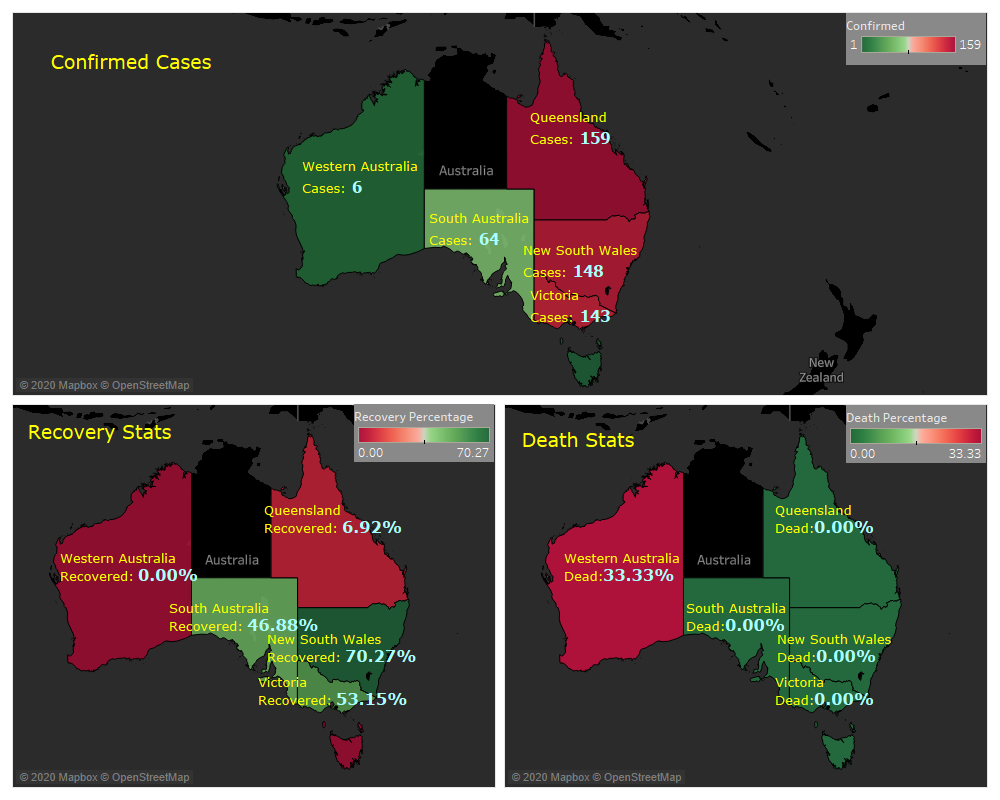

The page's visual inventory and layout, read from the dashboard file:
{"tool":"tableau","page":{"name":"Australia Analysis","canvas":[1000,800],"ordinal":1},"visuals":[{"type":"worksheet","title":"Cases AUS","mark":"Automatic","box":[8,8,984,392]},{"type":"legend","title":"Cases AUS","param":"[federated.1qtb5s40355yoo1dldp6701eauhl].[sum:Confirmed:qk]","box":[846,13,140,52]},{"type":"text","box":[48,47,167,30]},{"type":"worksheet","title":"AUS recovery","mark":"Automatic","box":[8,400,492,392]},{"type":"worksheet","title":"Aus death ","mark":"Automatic","box":[500,400,492,392]},{"type":"legend","title":"AUS recovery","param":"[federated.1qtb5s40355yoo1dldp6701eauhl].[usr:Calculation_781656036344938496:qk]","box":[354,404,140,58]},{"type":"legend","title":"Aus death ","param":"[federated.1qtb5s40355yoo1dldp6701eauhl].[usr:Recovery Percentage (copy):qk]","box":[846,405,140,63]},{"type":"blank","box":[280,406,132,59]},{"type":"text","box":[25,417,158,30]},{"type":"text","box":[519,425,119,30]}]}

Visuals, with their boxes in screenshot pixels (x1, y1, x2, y2), scaled from the page's 1000x800 canvas onto the 1000x800 screenshot:
"Cases AUS" worksheet: locate(8, 8, 992, 400)
"Cases AUS" legend: locate(846, 13, 986, 65)
text: locate(48, 47, 215, 77)
"AUS recovery" worksheet: locate(8, 400, 500, 792)
"Aus death " worksheet: locate(500, 400, 992, 792)
"AUS recovery" legend: locate(354, 404, 494, 462)
"Aus death " legend: locate(846, 405, 986, 468)
blank: locate(280, 406, 412, 465)
text: locate(25, 417, 183, 447)
text: locate(519, 425, 638, 455)
